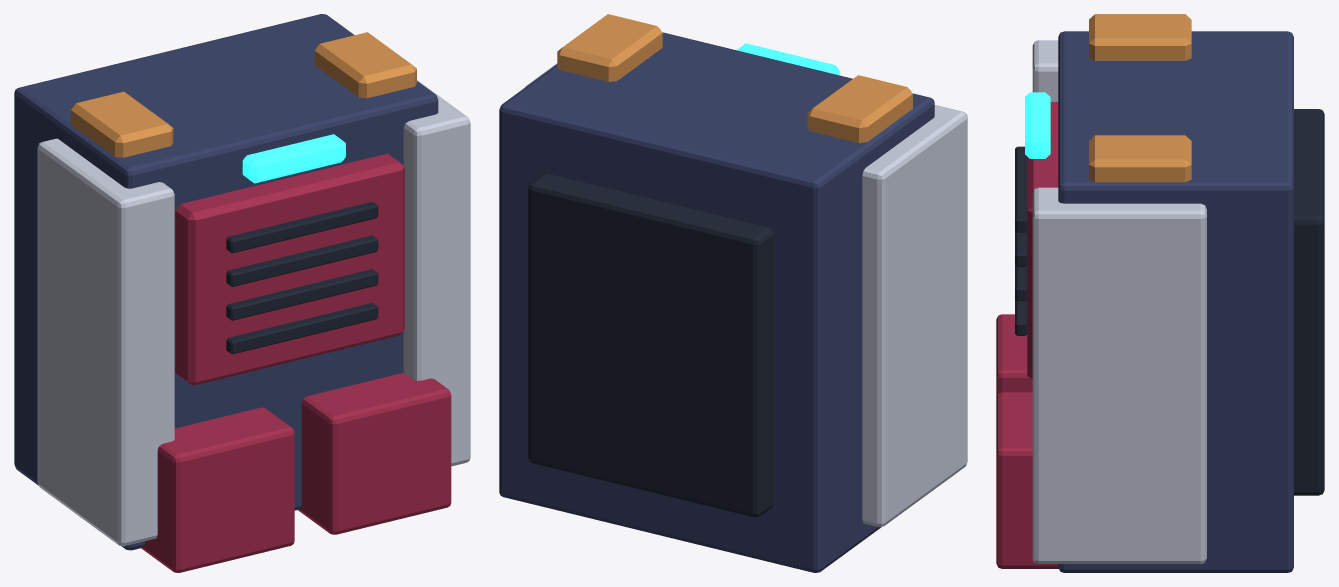
File: utility-backpack.glb
The picture shows the model from 3 angles, left to right: view 1: azimuth 30°, elevation 25°; view 2: azimuth 150°, elevation 25°; view 3: azimuth 270°, elevation 25°; orthographic projection. The views are drawn at different scales.
Parts seen in each view (by area): view 1: GEO-utility-backpack; view 2: GEO-utility-backpack; view 3: GEO-utility-backpack.
Part boxes in pixels (x1=…): GEO-utility-backpack: x1=14, y1=14, x2=470, y2=572; GEO-utility-backpack: x1=499, y1=14, x2=967, y2=572; GEO-utility-backpack: x1=996, y1=14, x2=1324, y2=572.
Size of the model in its own units: 0.405 by 0.447 by 0.3205.
